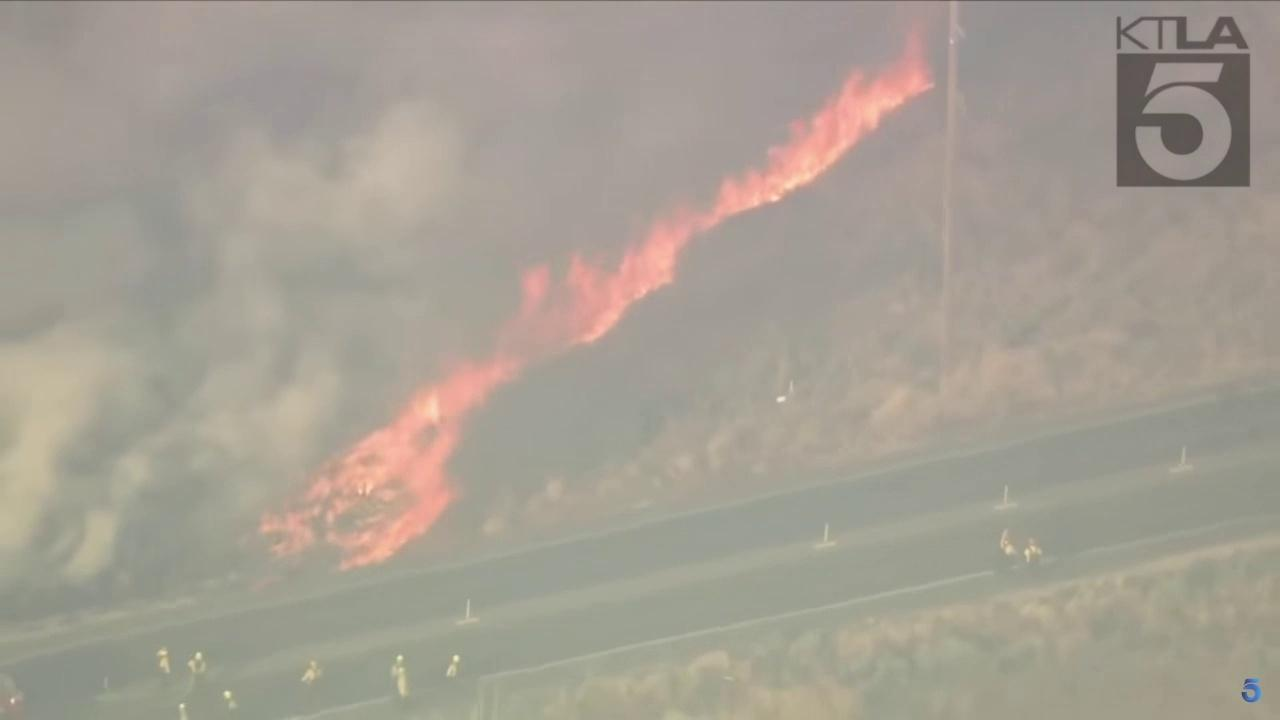fire: (255, 19, 937, 572)
smoke: (0, 0, 949, 620)
